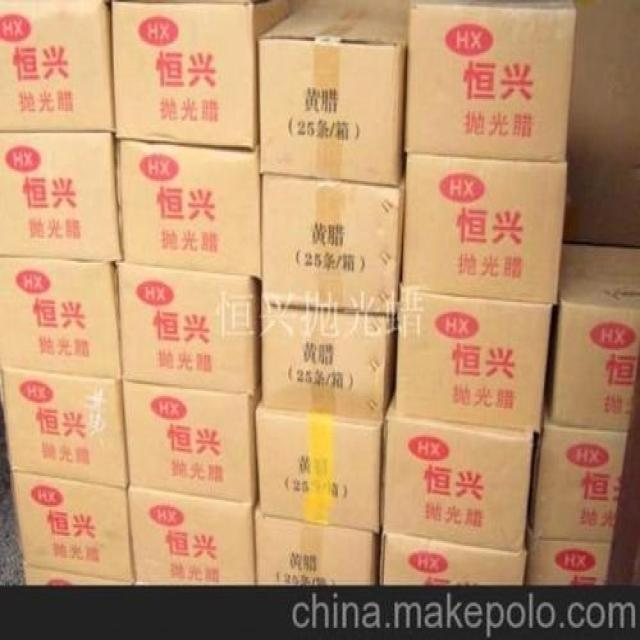box: (256, 3, 410, 187), (404, 1, 575, 163), (110, 1, 293, 149), (402, 153, 567, 305), (382, 392, 532, 553), (397, 289, 552, 430), (261, 175, 404, 315), (115, 139, 260, 277), (118, 264, 257, 393), (121, 381, 260, 503), (257, 398, 383, 532), (550, 245, 639, 431), (261, 306, 398, 423), (0, 133, 123, 263), (0, 0, 117, 133), (527, 395, 627, 542), (12, 473, 134, 581), (127, 485, 255, 585), (253, 501, 377, 585), (379, 532, 525, 584), (521, 523, 612, 585), (23, 565, 131, 584)
